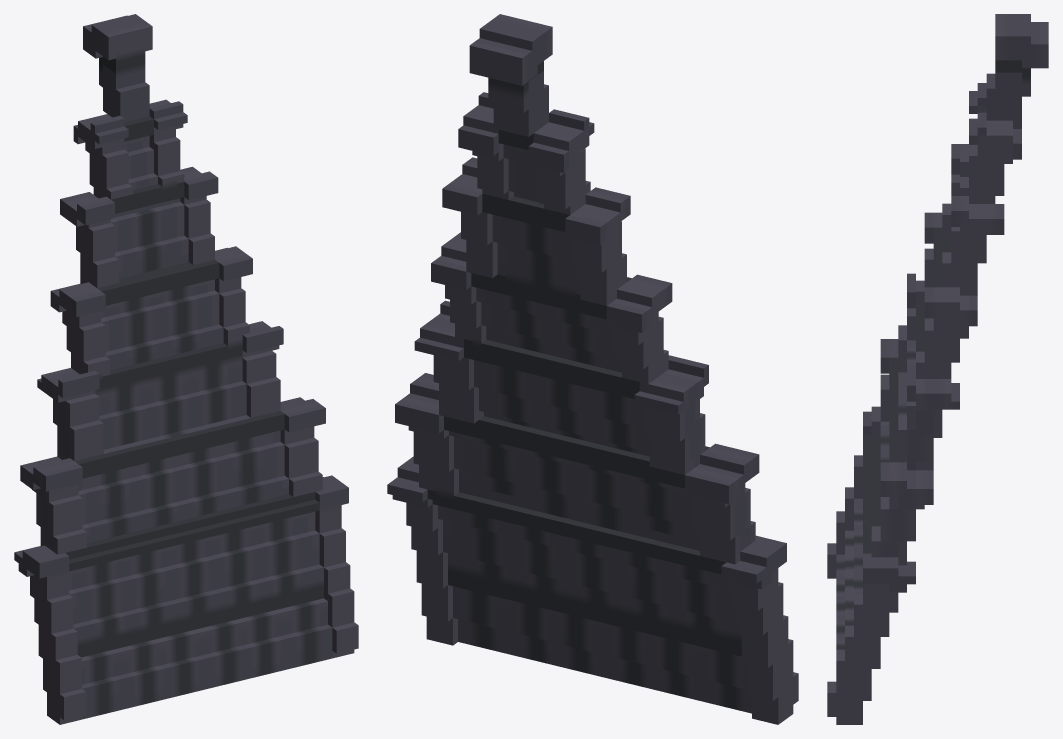
File: Roof_Panel-1.fbx
3 views of the same model, side by side, from view 1: azimuth 30°, elevation 25°; view 2: azimuth 150°, elevation 25°; view 3: azimuth 270°, elevation 25° (orthographic). The views are drawn at different scales.
Visible parts, largest first — view 1: Roof_Panel-1; view 2: Roof_Panel-1; view 3: Roof_Panel-1.
Boxes of the visible parts, bbox=[...] form: Roof_Panel-1: bbox=[14, 14, 358, 724]; Roof_Panel-1: bbox=[387, 14, 798, 724]; Roof_Panel-1: bbox=[827, 14, 1048, 724].
Size of the model in its own units: 210 by 390 by 125.
